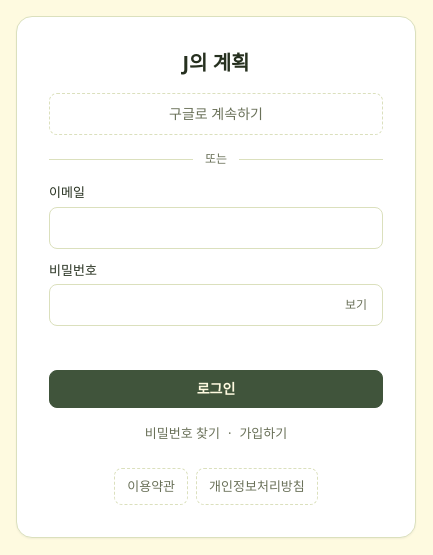
Test: 로그인 화면 /login (US-34, D-072) › 정지 계정 403은 BE 문구 그대로
Type "qa@example.com" into the field labelled "이메일".
click(216, 228); type("qa@example.com")  # box [49, 206, 383, 248]
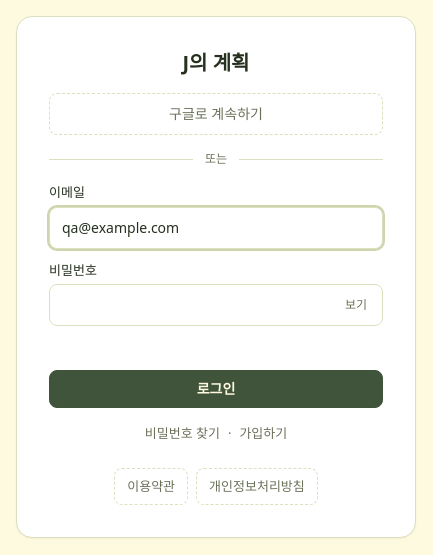
Type "pw-123456789012" into the password field labelled "비밀번호".
click(216, 305); type("pw-123456789012")  # box [49, 284, 383, 326]
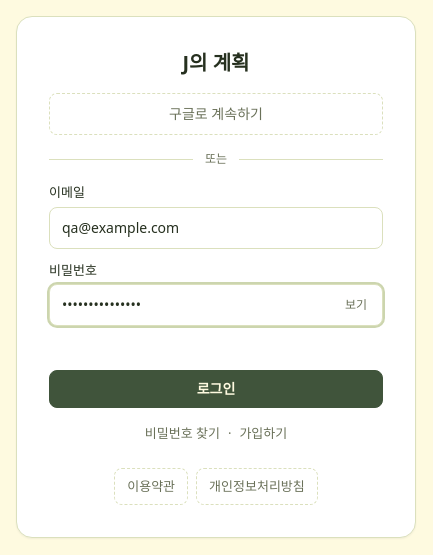
Click the button "로그인".
click(216, 389)  # box [49, 370, 383, 408]
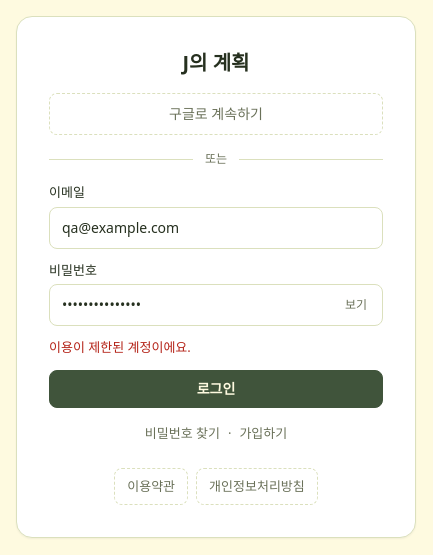
Expected: the message reads "이용이 제한된 계정이에요.", [49, 338, 191, 356]
